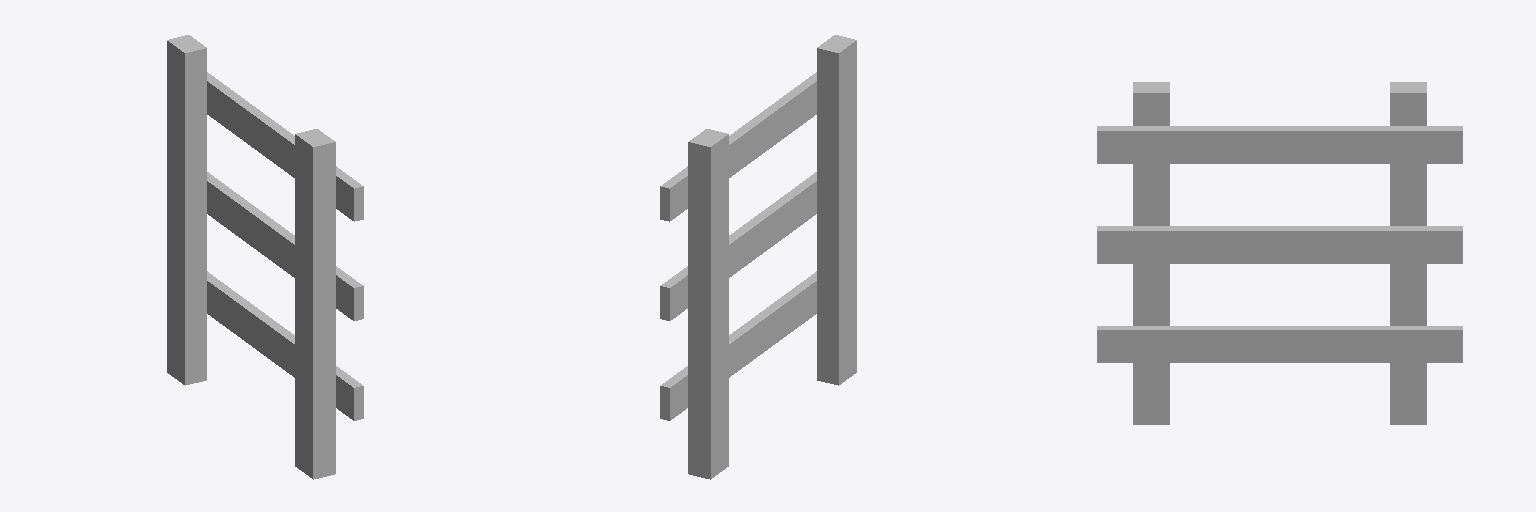
Rendered from woodfencex+.obj.
The picture shows the model from 3 angles: view 1: azimuth 30°, elevation 25°; view 2: azimuth 150°, elevation 25°; view 3: azimuth 270°, elevation 25°; orthographic projection.
Parts seen in each view (by area): view 1: bedx+; view 2: bedx+; view 3: bedx+.
Part boxes in pixels (x1,y1,x2,y2): bedx+: (167, 35, 363, 479); bedx+: (660, 35, 856, 479); bedx+: (1097, 82, 1462, 424).
Size of the model in its own units: 0.1 by 1 by 1.